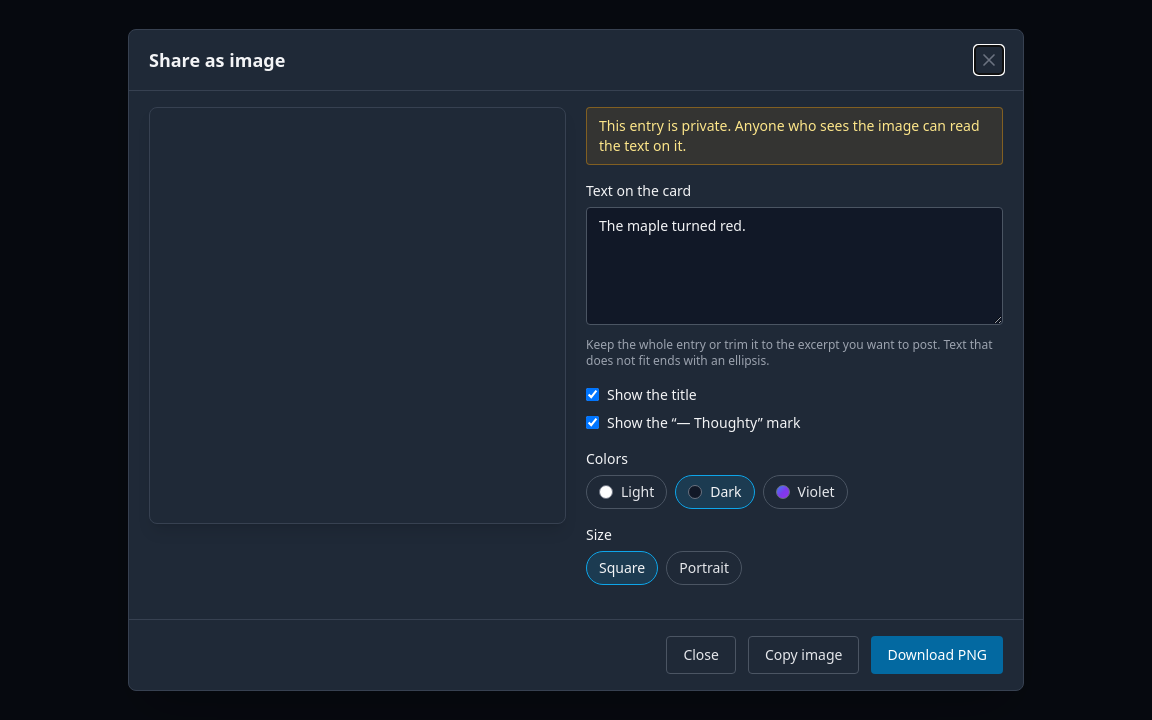
Test case: ShareImageDialog › copies the image where the clipboard takes images, and says when it fails
Click the button "Copy image".
click(804, 655)  # box left=748, top=636, right=859, bottom=674
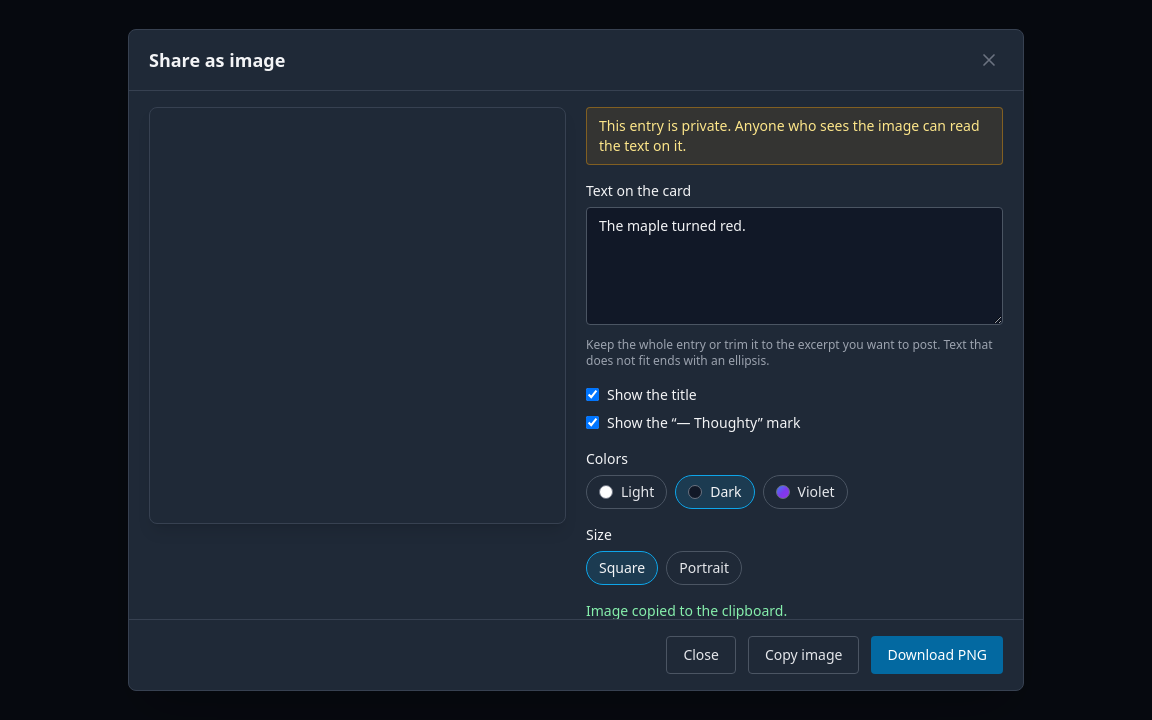
Now the text "Image copied to the clipboard." is shown, box left=586, top=601, right=787, bottom=619
Click the button "Copy image".
click(804, 655)  # box left=748, top=636, right=859, bottom=674
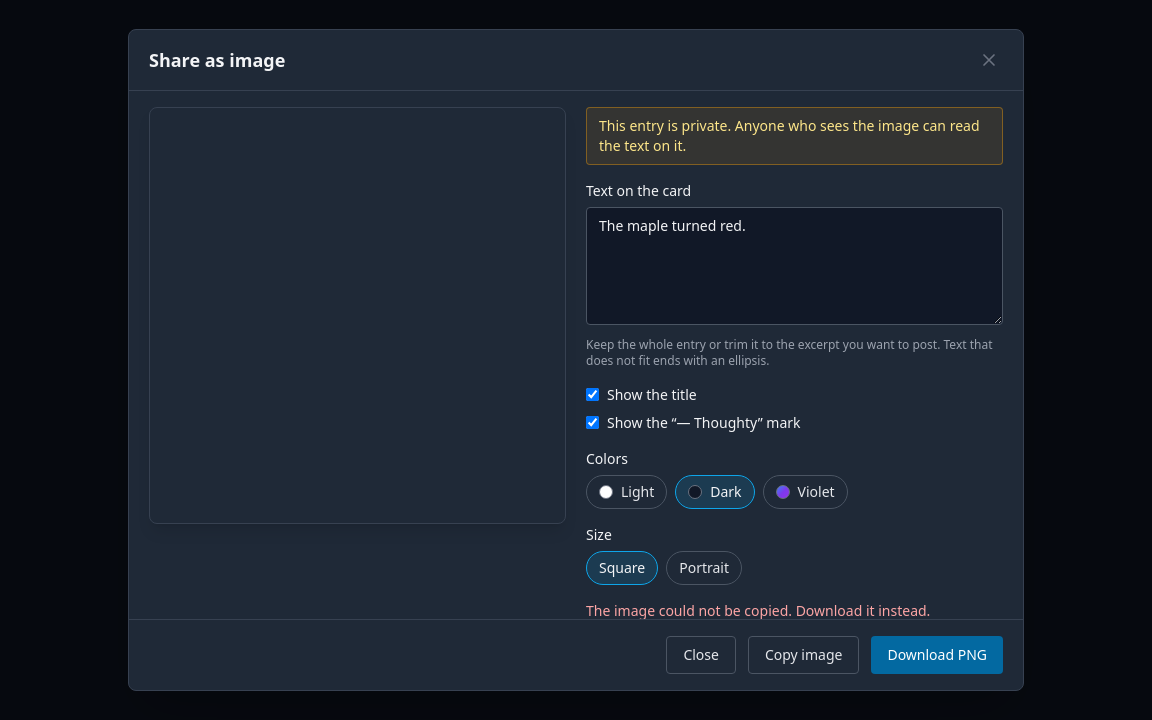
Now the text "The image could not be copied. Download it instead." is shown, box left=586, top=601, right=930, bottom=619
